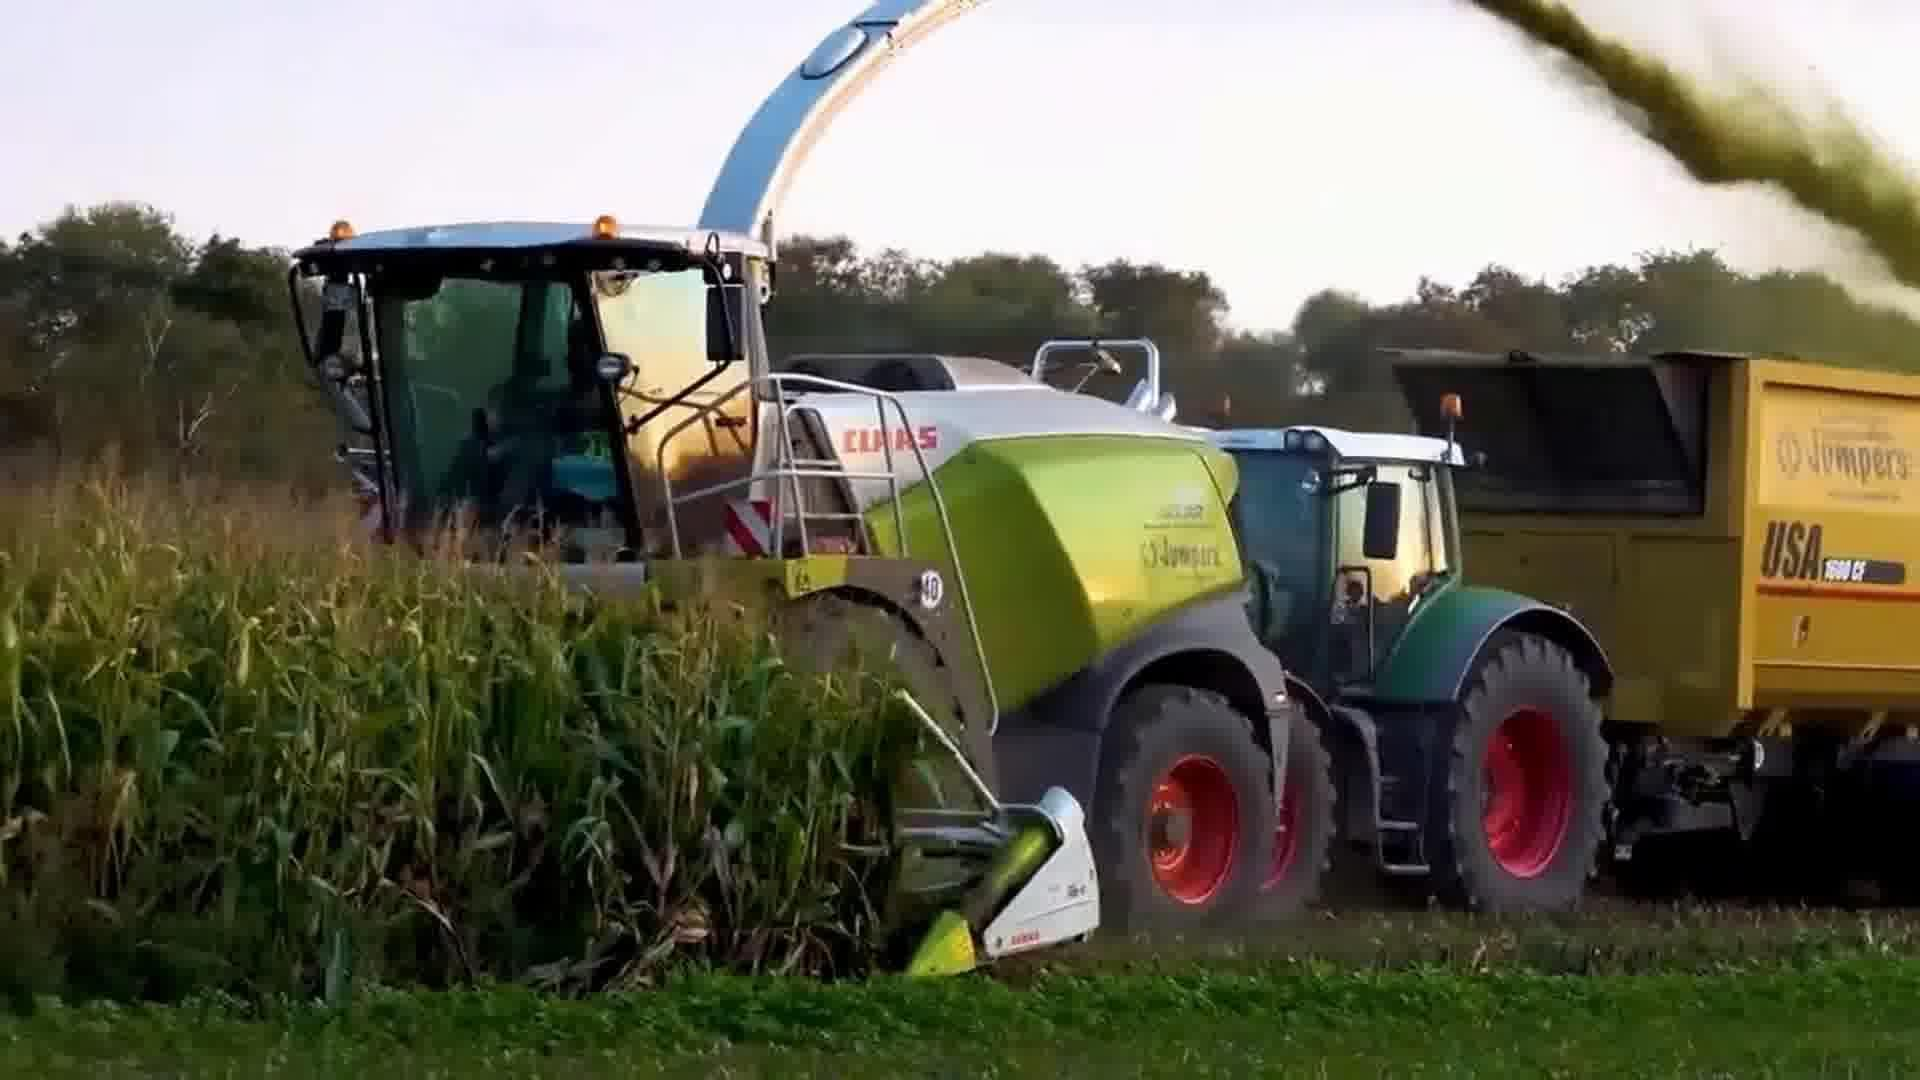combine harvester: (279, 0, 1626, 987)
tractor: (1207, 407, 1621, 909)
trailer: (1379, 329, 1920, 903)
